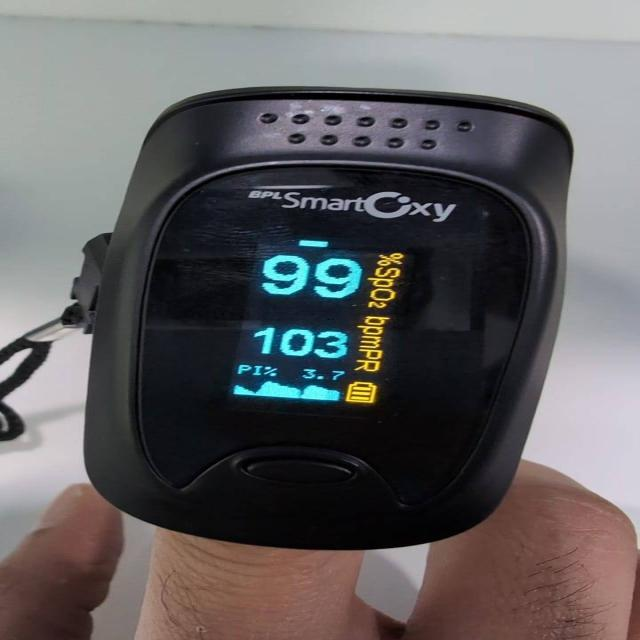spo2: (60, 86, 574, 556)
